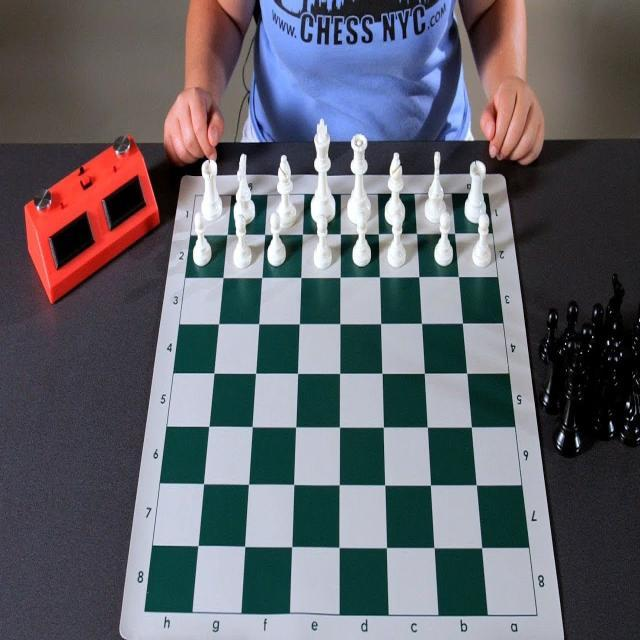chess-table-corners: (526, 595, 550, 633), (135, 594, 157, 630), (188, 187, 202, 209), (483, 182, 497, 203)
